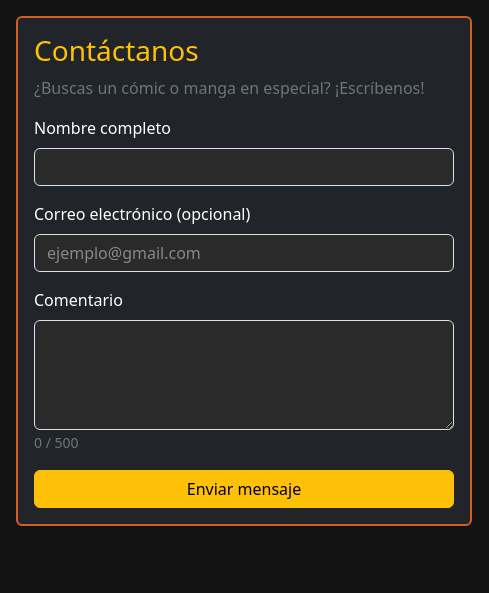
Test: Página Contacto › debería mostrar los errores al enviar el formulario vacío
Click the button "Enviar mensaje". click: (244, 489)
box: [34,470,454,508]
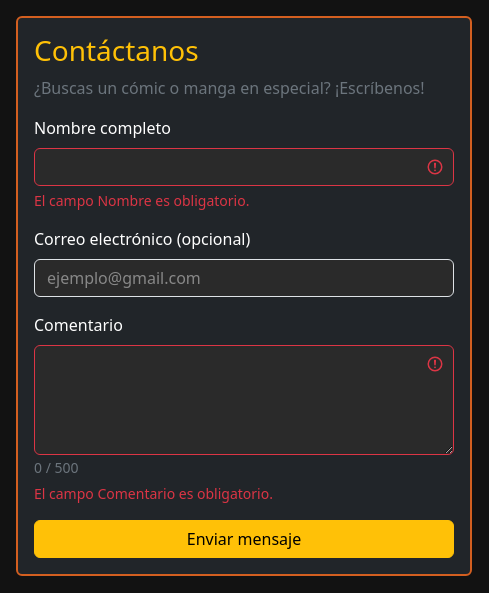
Result: the text "El campo Nombre es obligatorio." is shown at [34,191,249,210]
Result: the text "El campo Comentario es obligatorio." is shown at [34,484,273,503]
